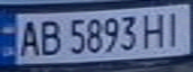3: (118, 12, 142, 52)
5: (63, 16, 87, 55)
8: (84, 15, 106, 55)
9: (103, 15, 124, 53)
A: (12, 17, 42, 57)
B: (36, 17, 63, 57)
H: (139, 9, 169, 50)
I: (160, 7, 190, 47)
